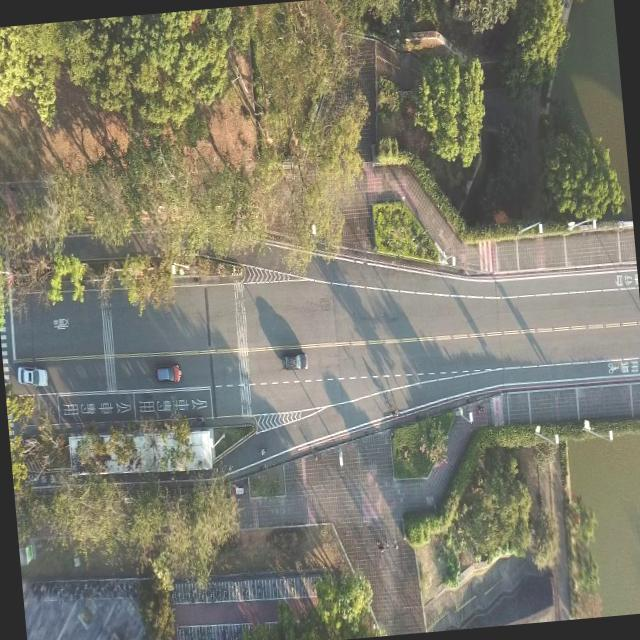car: (16, 366, 48, 388), (156, 362, 182, 386), (280, 350, 308, 372)
